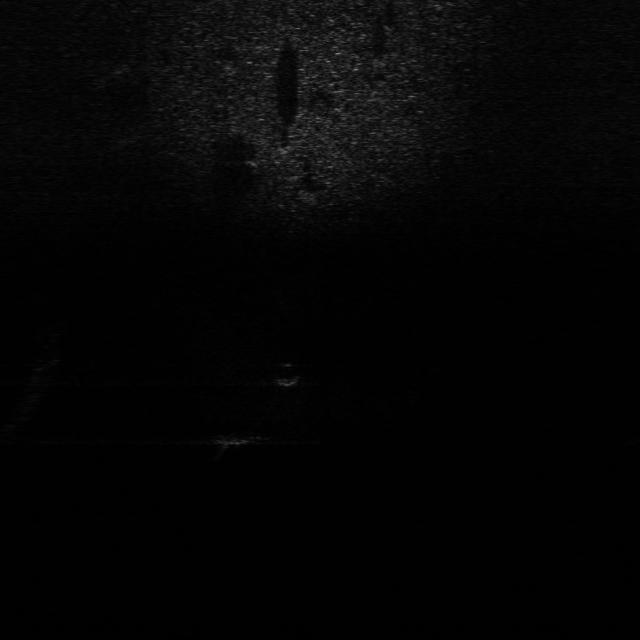ball: (272, 359, 303, 389)
square cage: (212, 431, 274, 449)
